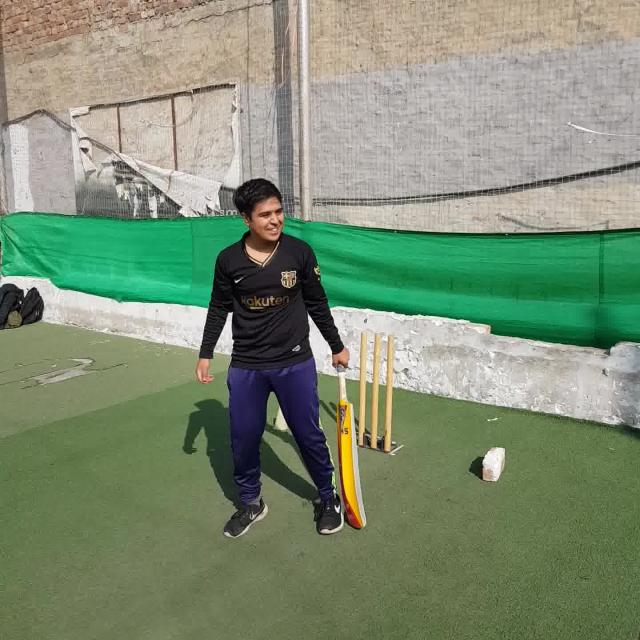bat: (335, 361, 366, 526)
